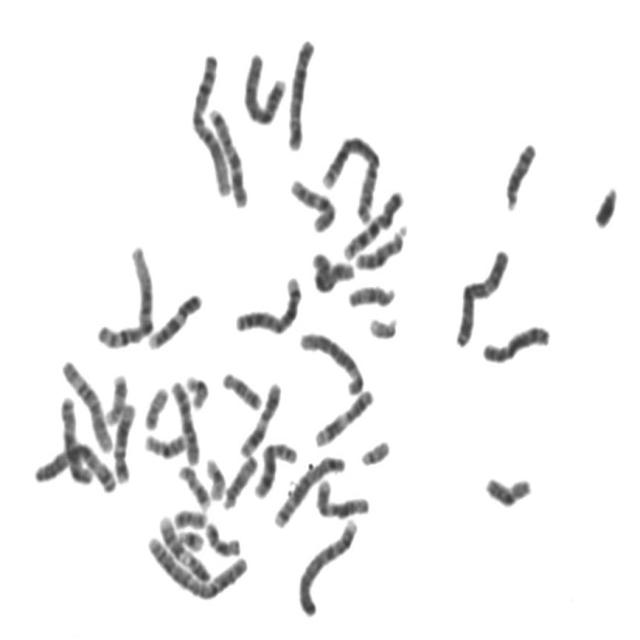A1: (92, 238, 158, 351), (186, 46, 234, 198)
A2: (144, 531, 250, 603), (318, 128, 382, 225)
A3: (450, 240, 512, 349), (30, 437, 119, 494)
B4: (293, 512, 360, 620), (238, 45, 289, 127)
B5: (270, 448, 348, 530), (282, 30, 318, 153)
C10: (166, 373, 202, 467), (286, 172, 338, 234)
C11: (310, 382, 377, 450), (235, 375, 284, 460)
C12: (312, 474, 372, 521), (109, 396, 138, 484)
C6: (58, 352, 115, 454), (296, 325, 366, 398)
C7: (338, 182, 407, 262), (204, 101, 251, 209)
C8: (478, 325, 556, 367), (250, 436, 300, 500)
C9: (158, 514, 215, 586), (143, 286, 204, 351)
D13: (231, 276, 302, 344), (350, 217, 410, 271)
D14: (501, 134, 539, 212)
D15: (218, 449, 260, 512), (343, 277, 398, 310)
E16: (480, 468, 535, 509), (140, 425, 190, 460)
E17: (174, 459, 212, 512), (100, 367, 130, 427)
E18: (218, 365, 264, 412), (200, 516, 243, 558)
F19: (201, 451, 227, 502), (181, 368, 211, 412)
F20: (139, 379, 171, 432), (170, 503, 210, 531)
G21: (589, 178, 621, 231), (174, 522, 206, 554)
G22: (181, 368, 211, 412), (356, 433, 392, 468)
X: (61, 398, 95, 486), (307, 244, 357, 296)
